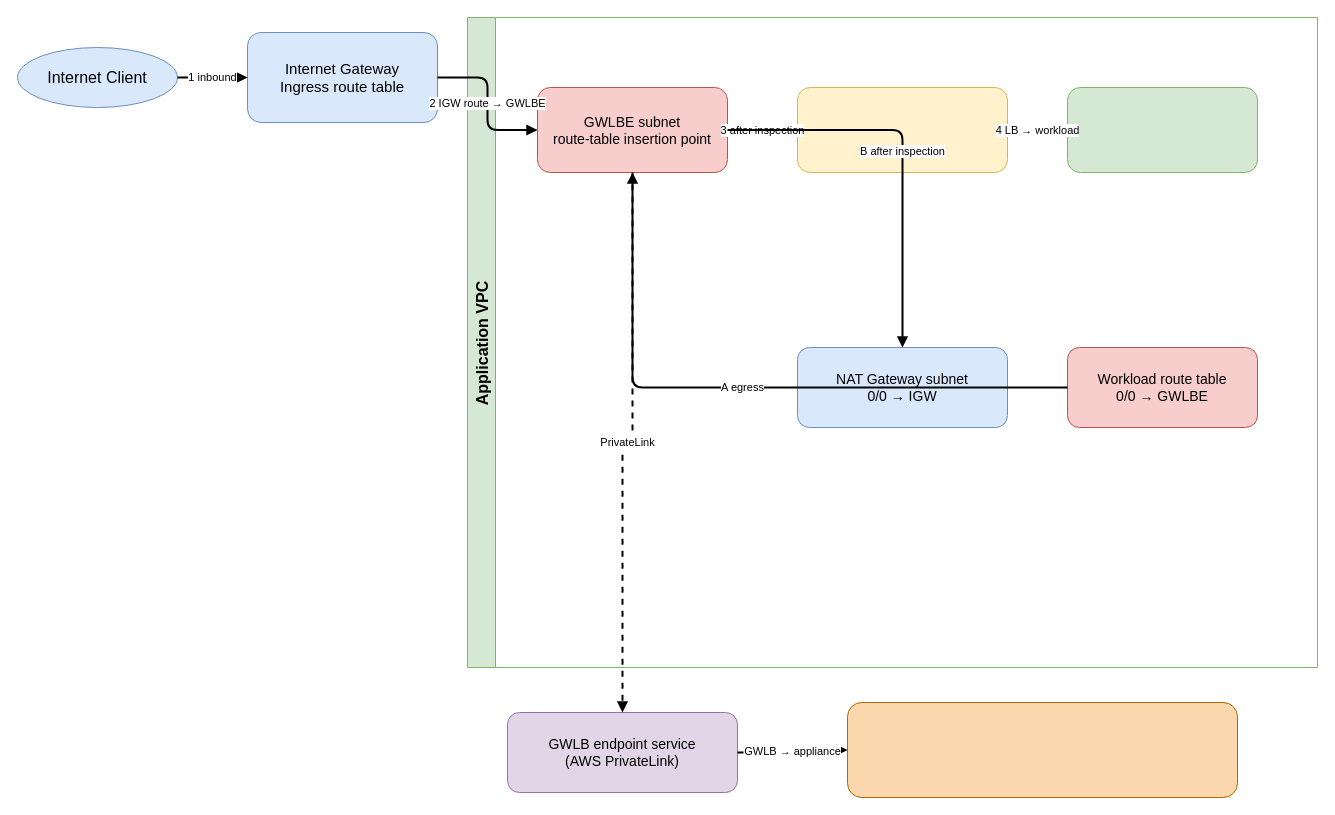
This 1335x815 diagram has some shape labels left out. Each missing label, with the centre of its shape:
"Internet-facing ALB / NLB or public-IP workload" goes at pixel 902 129.
"Private workload subnet 10.10.20.0/24" goes at pixel 1162 129.
"Security VPC: GWLB + NGFW fleet GENEVE UDP/6081 between GWLB and appliances" goes at pixel 1042 750.
